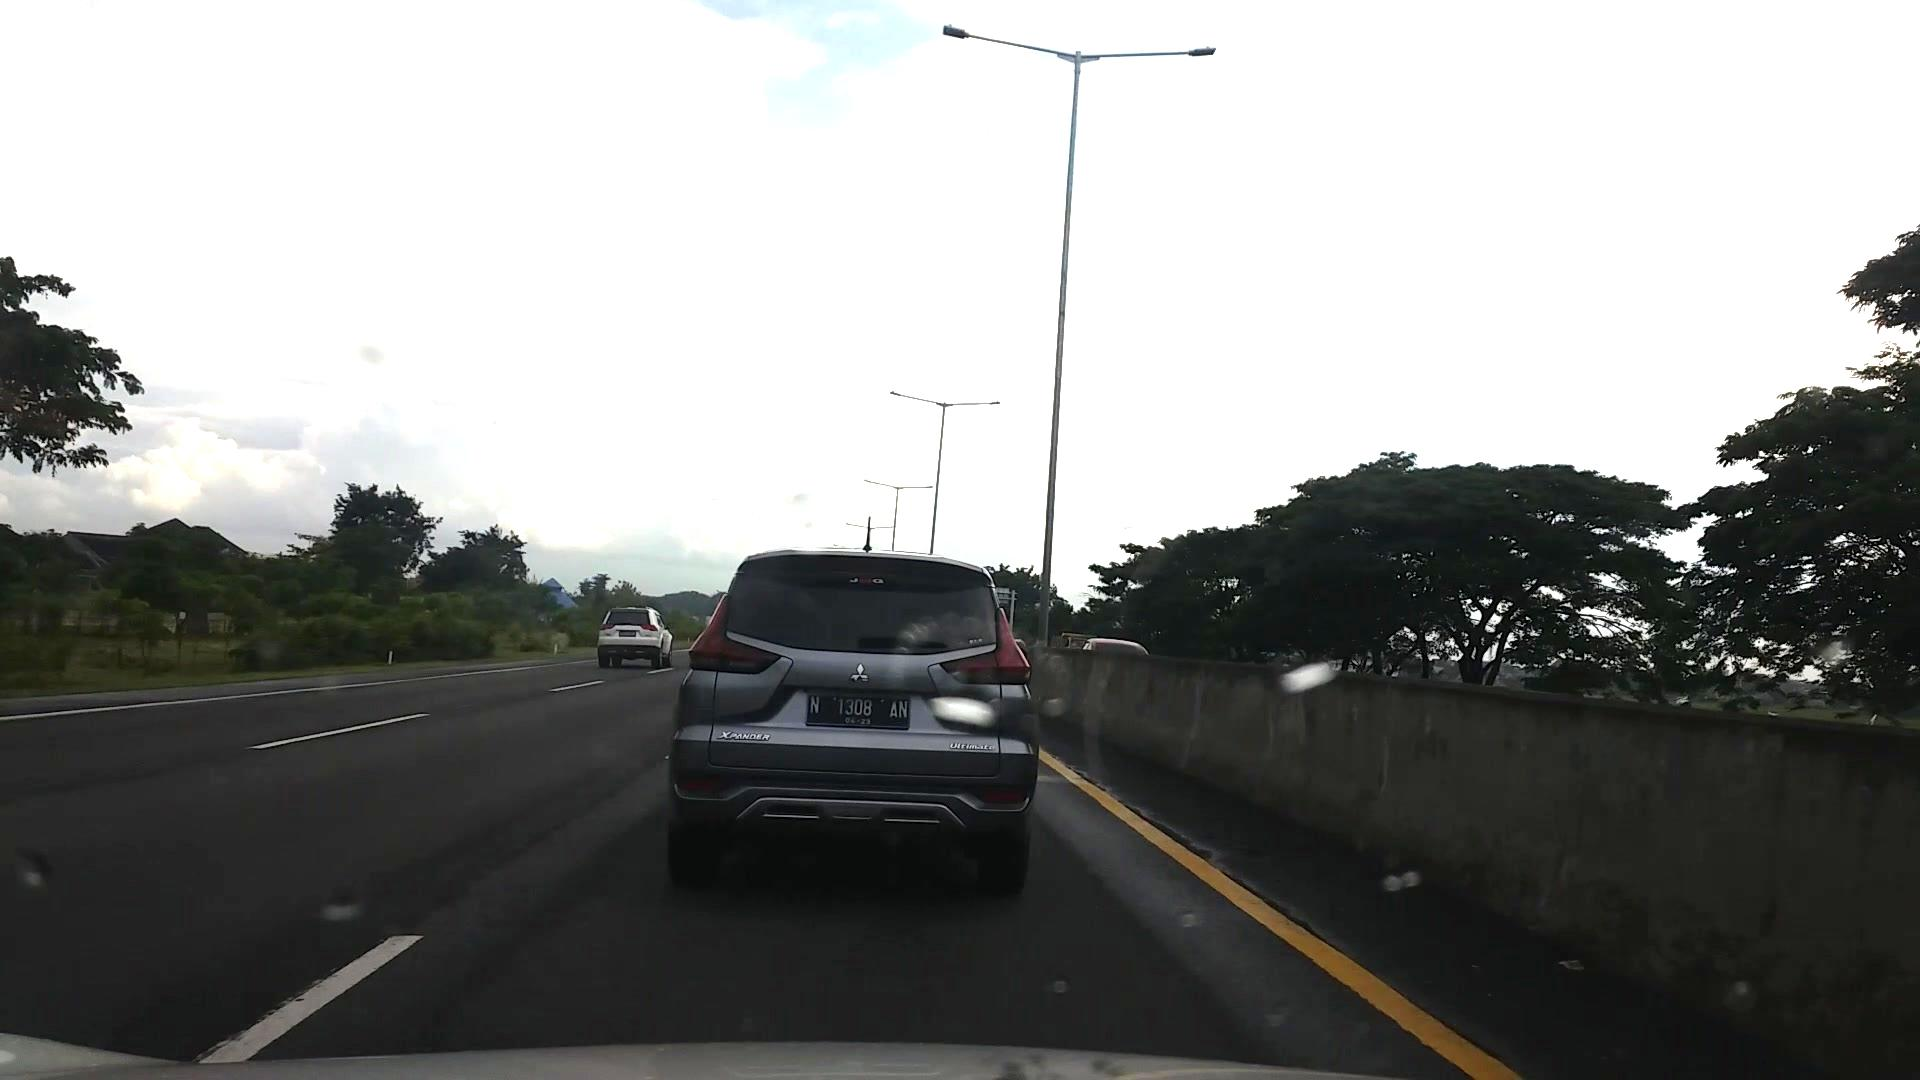plate_positive: (806, 694, 909, 731)
